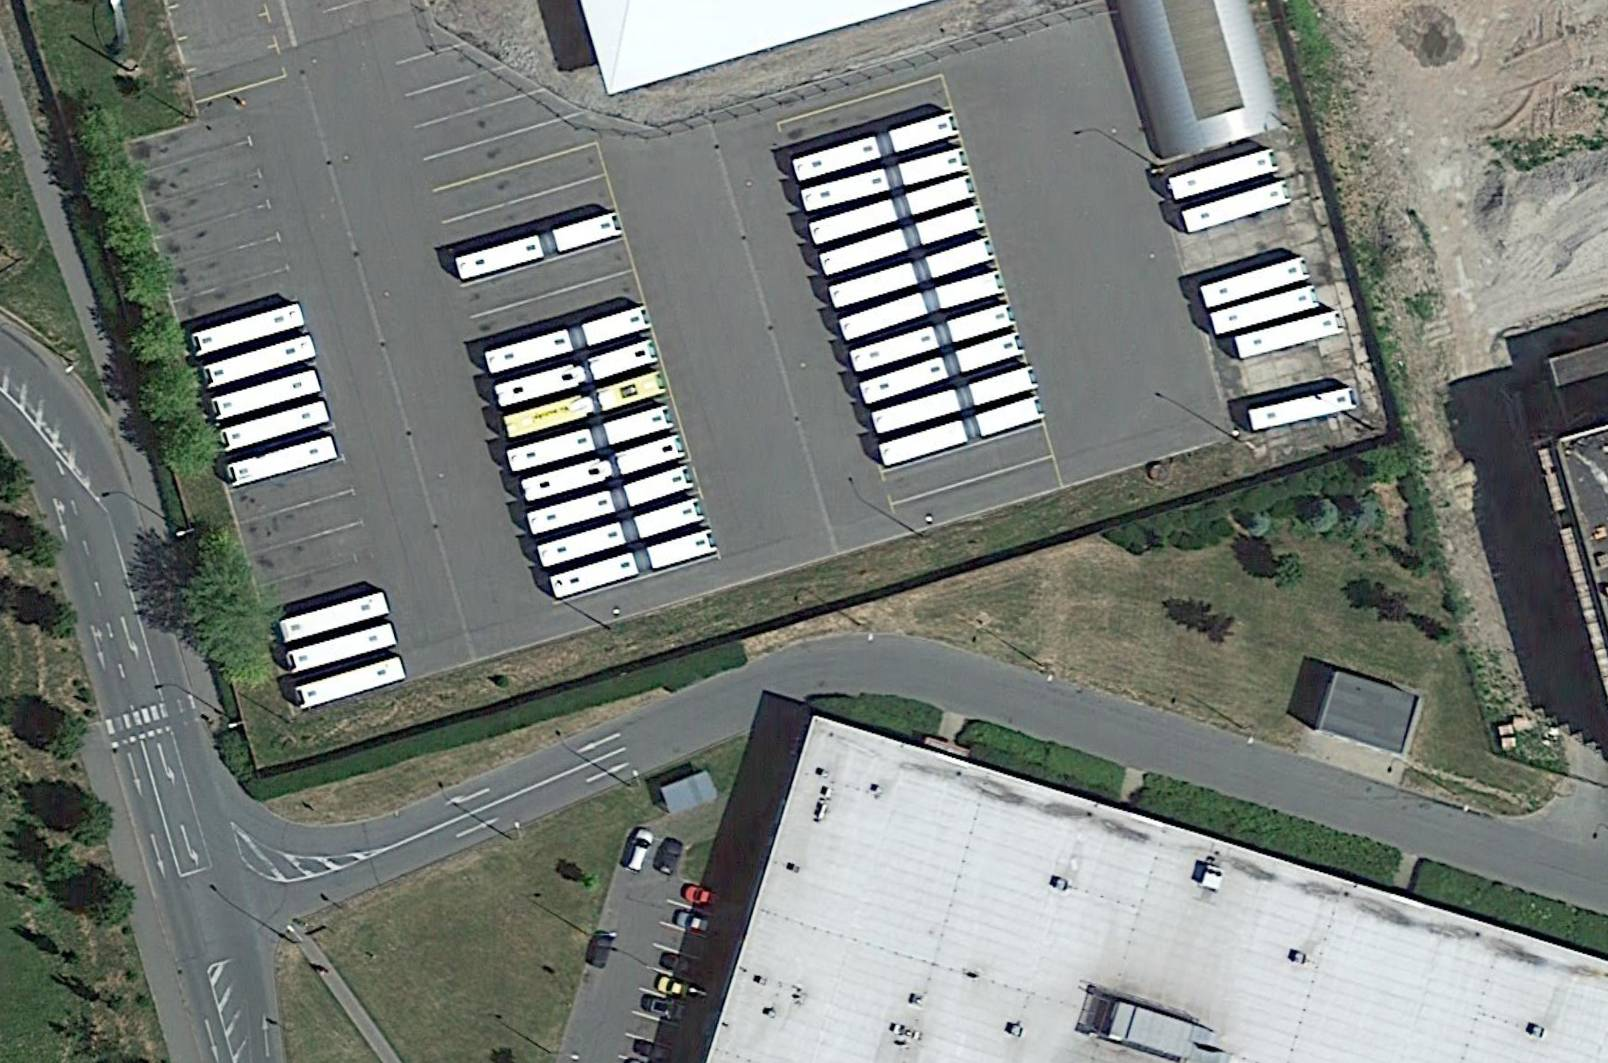large vehicle: (827, 234, 997, 313), (878, 392, 1045, 471), (837, 266, 1007, 344), (869, 361, 1041, 438), (808, 171, 978, 248), (481, 303, 655, 378), (547, 526, 719, 601), (527, 462, 695, 539), (818, 202, 987, 279), (848, 300, 1017, 376), (519, 431, 689, 505), (791, 110, 961, 185), (453, 210, 625, 284), (503, 402, 677, 475), (535, 496, 706, 569), (859, 331, 1026, 406), (500, 367, 670, 440), (492, 337, 661, 410), (798, 144, 972, 214), (1179, 176, 1293, 236), (202, 333, 318, 392), (216, 397, 332, 456), (189, 301, 306, 358), (294, 653, 408, 711), (277, 588, 393, 645), (283, 620, 398, 677), (1198, 254, 1312, 311), (226, 433, 339, 490), (1167, 147, 1280, 204), (1233, 307, 1346, 363), (209, 368, 323, 422), (1207, 282, 1319, 337), (1248, 382, 1358, 433)
